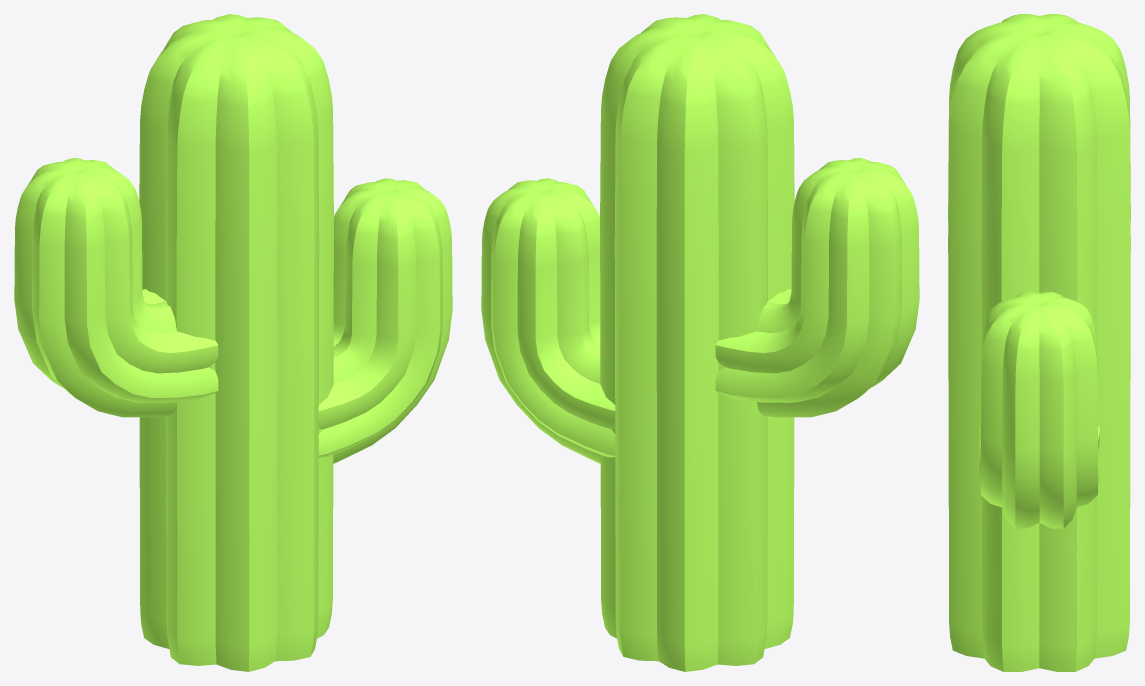
Rendered from cactus.glb.
3 views of the same model, side by side, from view 1: azimuth 30°, elevation 25°; view 2: azimuth 150°, elevation 25°; view 3: azimuth 270°, elevation 25° (orthographic).
Visible parts, largest first — view 1: Circle.2076; view 2: Circle.2076; view 3: Circle.2076.
Boxes of the visible parts, left/top/right/bottom form: Circle.2076: left=14, top=14, right=452, bottom=671; Circle.2076: left=481, top=14, right=919, bottom=671; Circle.2076: left=948, top=14, right=1130, bottom=671.
Size of the model in its own units: 1.58 by 2.2 by 0.6007.
Materials: 1 (1 with a texture image).
